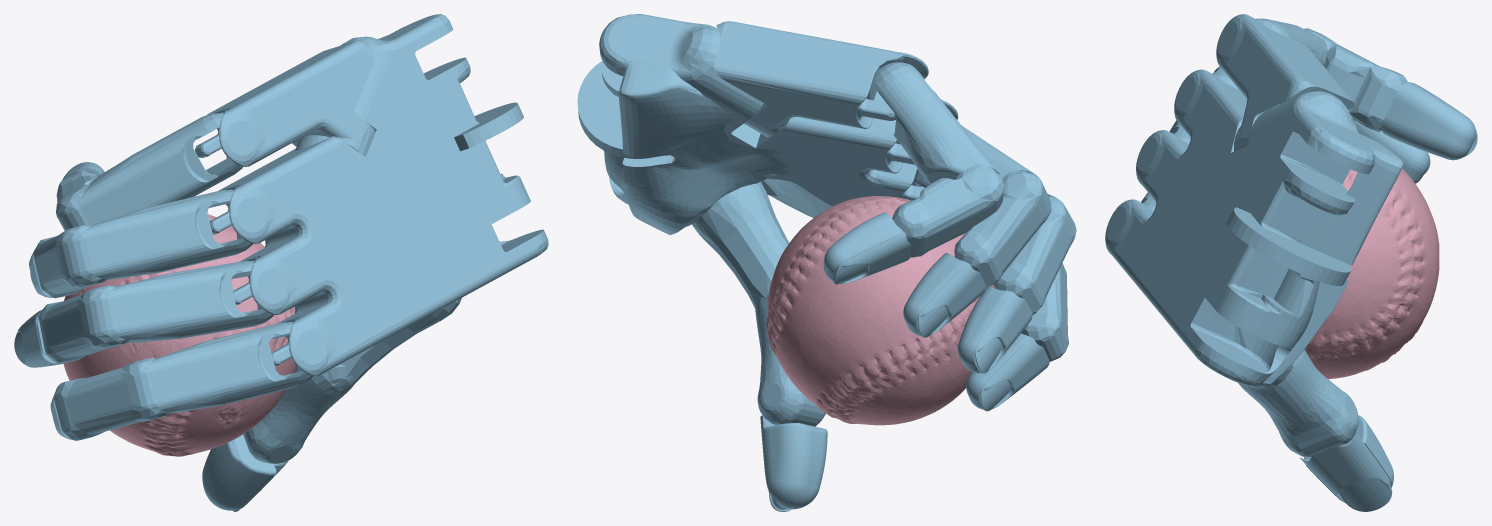
3 views of the same model, side by side, from view 1: azimuth 30°, elevation 25°; view 2: azimuth 150°, elevation 25°; view 3: azimuth 270°, elevation 25° (orthographic). The views are drawn at different scales.
Visible parts, largest first — view 1: world; view 2: world; view 3: world.
Boxes of the visible parts, bbox=[...] form: world: bbox=[14, 14, 548, 511]; world: bbox=[577, 14, 1076, 511]; world: bbox=[1105, 14, 1477, 511].
Bounding box in the file's own units: 0.1668 × 0.1557 × 0.1097.
